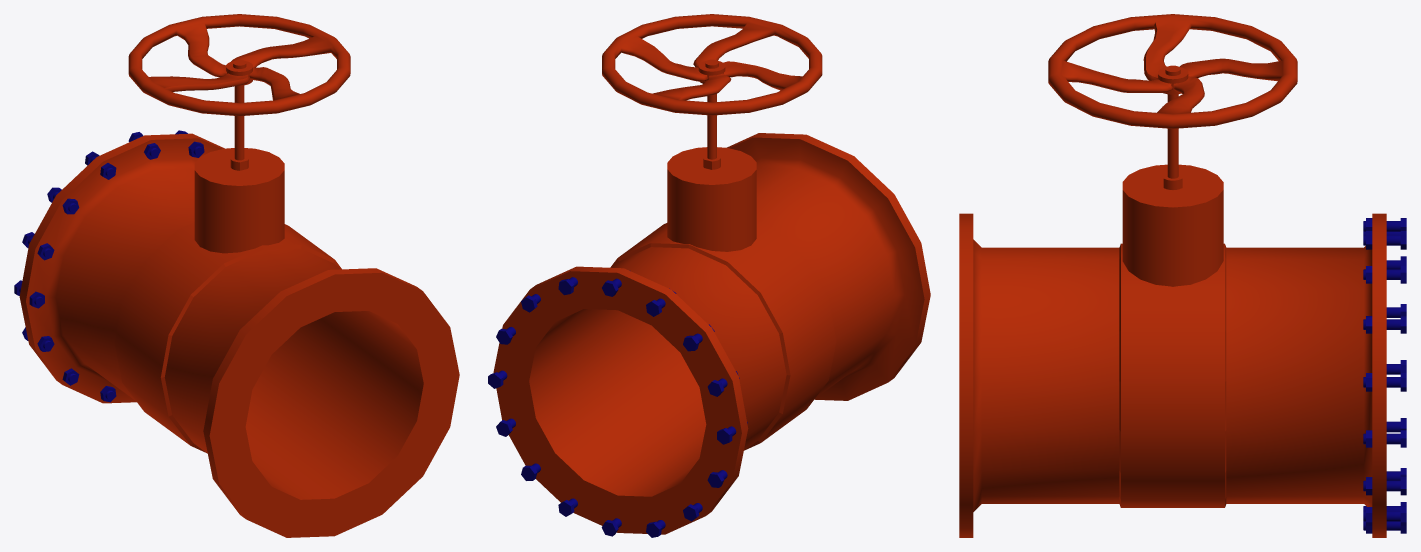
The model's file is MSP_Valve01_BoltX17_01.FBX.
The picture shows the model from 3 angles, left to right: view 1: azimuth 30°, elevation 25°; view 2: azimuth 150°, elevation 25°; view 3: azimuth 270°, elevation 25°; orthographic projection. The views are drawn at different scales.
Visible parts, largest first — view 1: PipeValve_up1_01_Low001, Valve_01_Low005, Bolt_004; view 2: PipeValve_up1_01_Low001, Valve_01_Low005, Bolt_004; view 3: PipeValve_up1_01_Low001, Valve_01_Low005, Bolt_004.
Boxes of the visible parts, x1,y1,x2,y2 form: PipeValve_up1_01_Low001: [19, 60, 459, 537]; Valve_01_Low005: [128, 14, 350, 116]; Bolt_004: [14, 130, 204, 402]; PipeValve_up1_01_Low001: [493, 59, 930, 534]; Valve_01_Low005: [602, 14, 822, 115]; Bolt_004: [488, 277, 747, 537]; PipeValve_up1_01_Low001: [959, 65, 1386, 537]; Valve_01_Low005: [1048, 14, 1297, 128]; Bolt_004: [1363, 218, 1406, 533].
Bounding box in the file's own units: 38 × 59.08 × 52.36.
